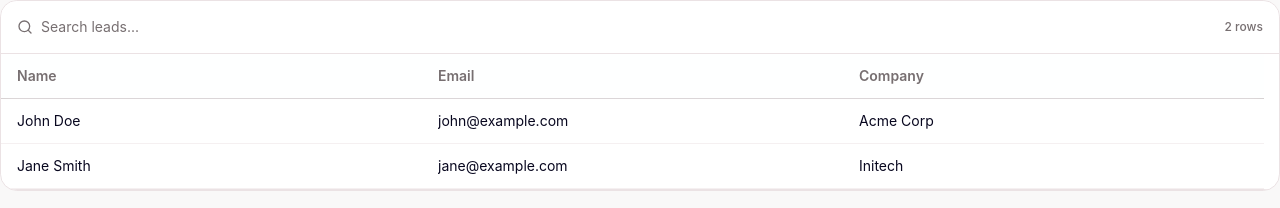
Test: CSVPreviewTable › filters rows based on search input
In the field with placeholder "Search leads...": (629, 27) [41, 17, 1216, 37], type "Jane"
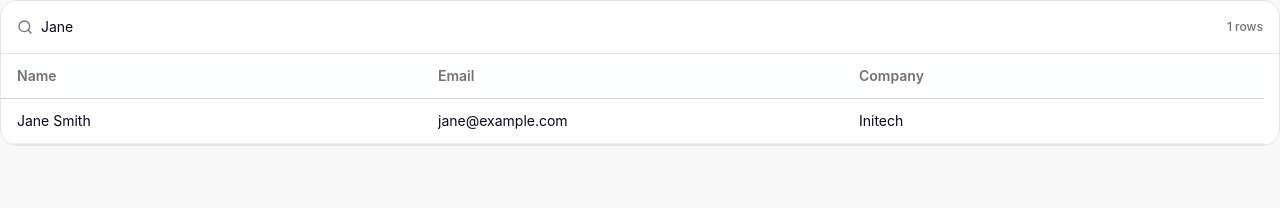
Expected: the text "Jane Smith" is shown, [17, 112, 91, 129]
Expected: the text "John Doe" is gone
Expected: the text "1 rows" is shown, [1227, 19, 1263, 35]
